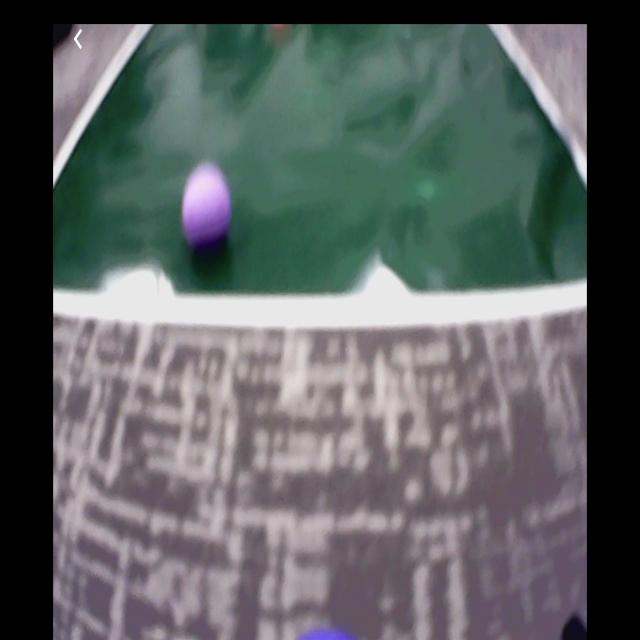ball: (182, 162, 230, 247), (298, 623, 355, 640)
